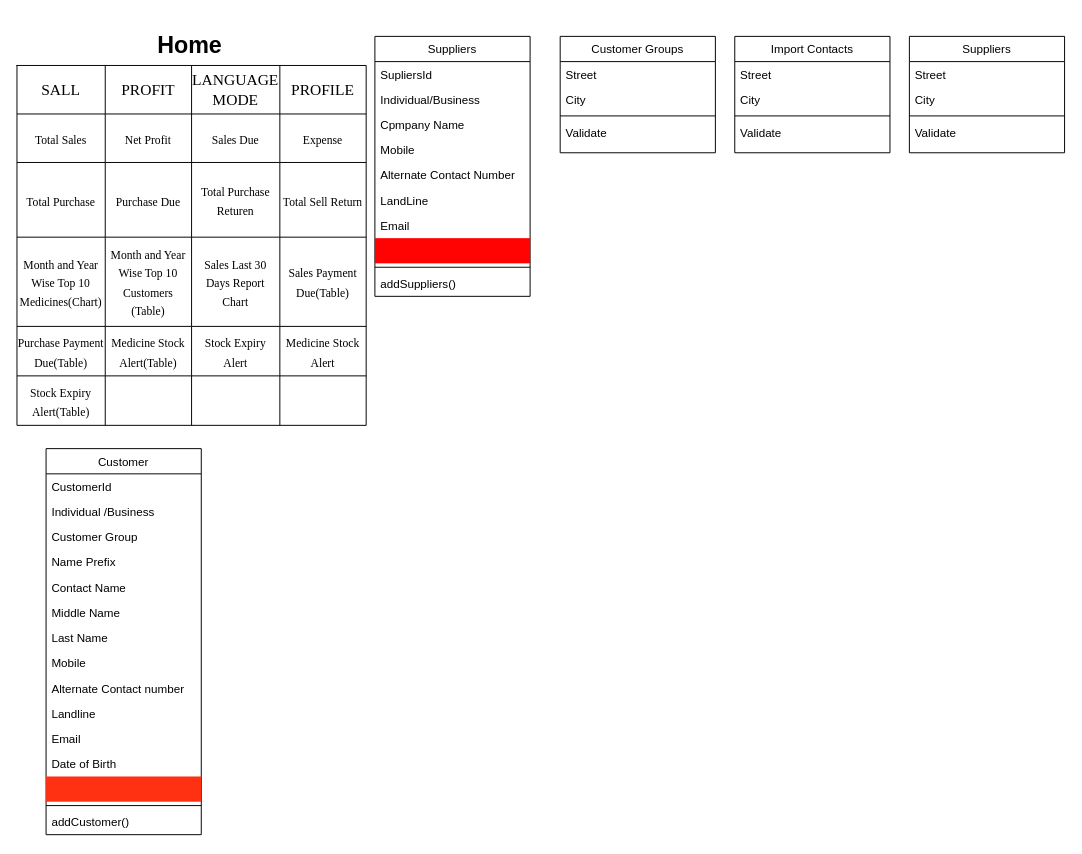
Some shapes in this 1082 by 854 pixel diagram are drawn without their labels. The box of each missing label's shape, as (x1, y1, x2, y2) in pixels:
MoreInfo.....: (374, 238, 530, 263)
MoreInfo..........: (46, 776, 201, 801)
